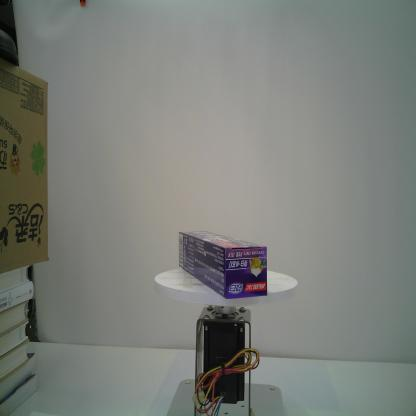Personal Hygiene: (178, 230, 268, 300)
